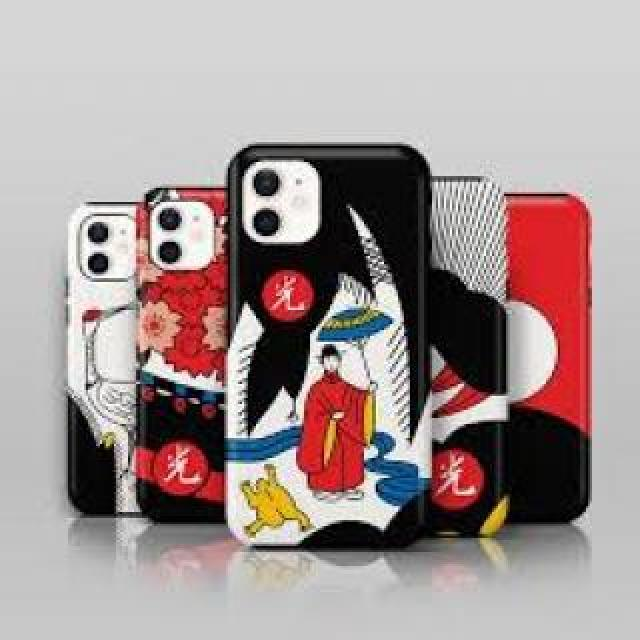smart phone: (232, 121, 446, 556), (72, 200, 146, 518), (143, 177, 205, 533)
